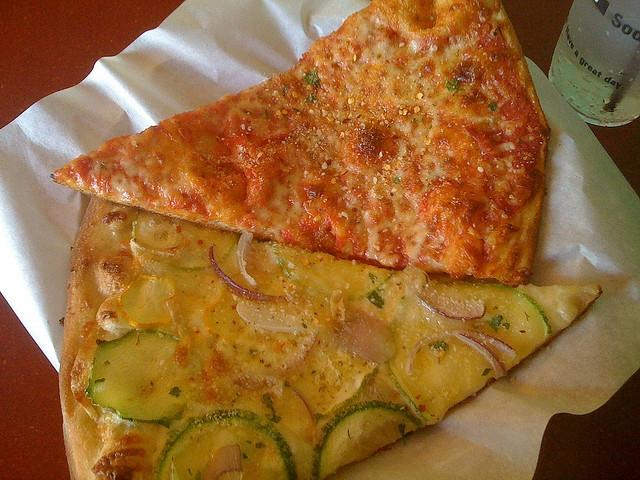onion: (233, 330, 320, 392), (406, 330, 516, 374), (208, 246, 282, 300), (338, 308, 397, 364), (236, 298, 317, 333), (454, 332, 506, 380), (416, 294, 484, 321), (164, 296, 192, 342), (236, 231, 258, 287)
vegetable marrow: (385, 279, 553, 424), (156, 408, 298, 480), (85, 329, 188, 428), (312, 400, 425, 478), (270, 241, 396, 300), (130, 209, 238, 272)
